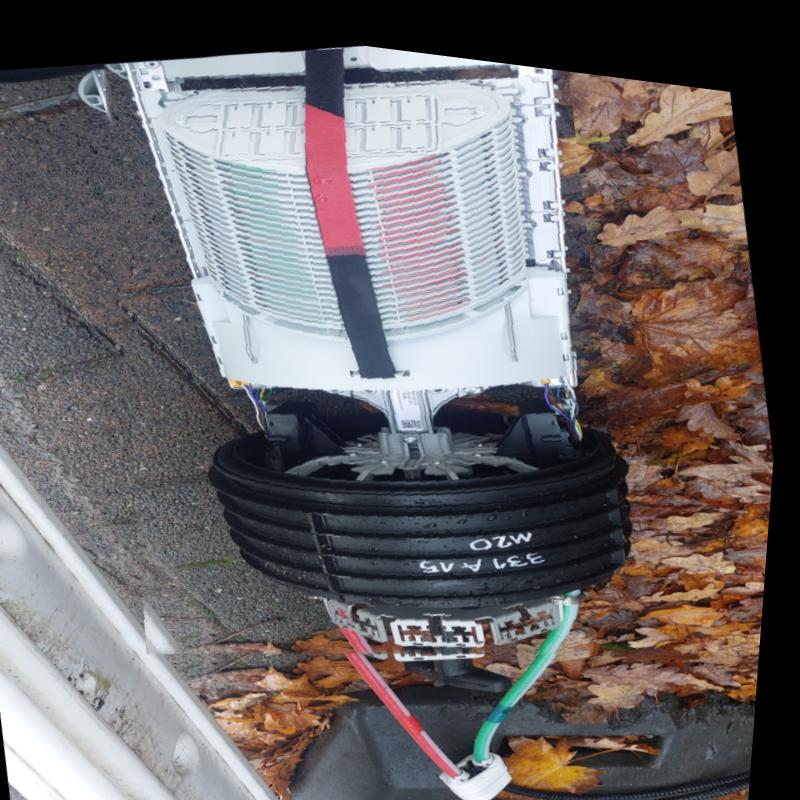NT-Muffen: (101, 36, 644, 649)
